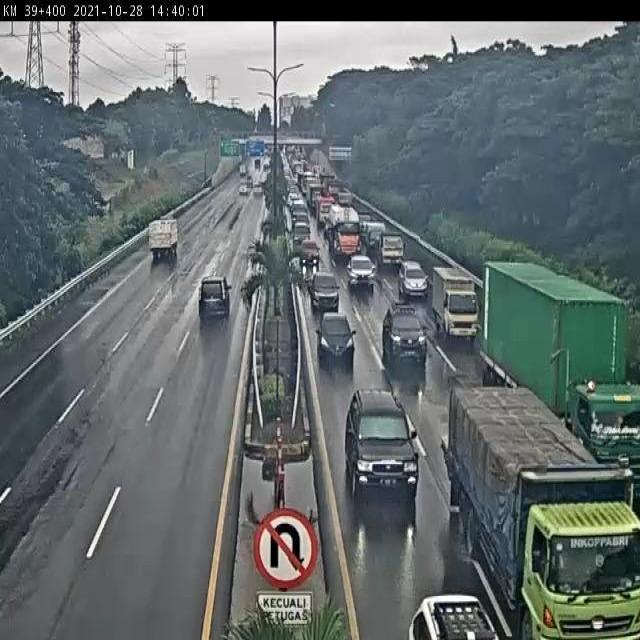big truck: (448, 382, 640, 640), (481, 261, 640, 484), (326, 202, 361, 255)
car: (344, 387, 421, 493), (381, 301, 428, 363), (317, 312, 355, 357), (309, 271, 341, 308), (397, 257, 428, 295), (373, 227, 403, 261), (196, 278, 217, 318), (346, 255, 372, 285), (298, 237, 320, 264)
mid truck: (146, 216, 179, 259)
small truck: (431, 267, 478, 337)
